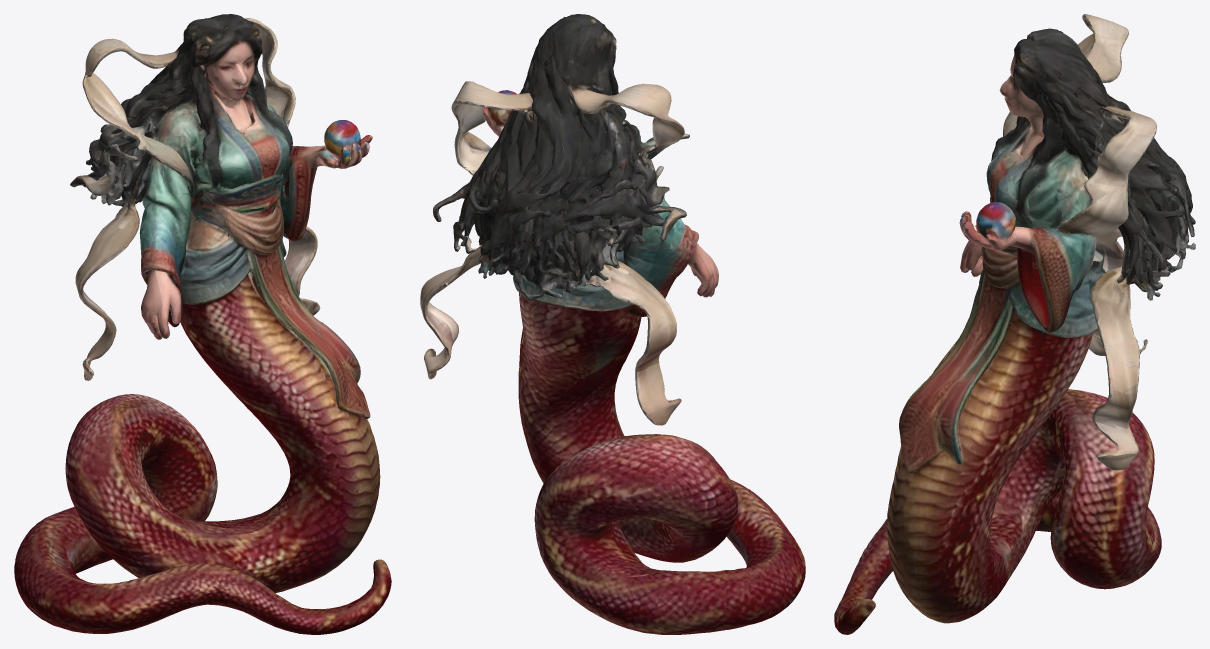
File: nvwa.glb
3 views of the same model, side by side, from view 1: azimuth 30°, elevation 25°; view 2: azimuth 150°, elevation 25°; view 3: azimuth 270°, elevation 25° (orthographic). The views are drawn at different scales.
Visible parts, largest first — view 1: geometry_0; view 2: geometry_0; view 3: geometry_0.
Boxes of the visible parts, x1,y1,x2,y2 form: geometry_0: (14, 14, 391, 634); geometry_0: (420, 14, 805, 634); geometry_0: (834, 14, 1195, 634).
Size of the model in its own units: 0.3731 by 0.6 by 0.3399.
Materials: 1 (1 with a texture image).
